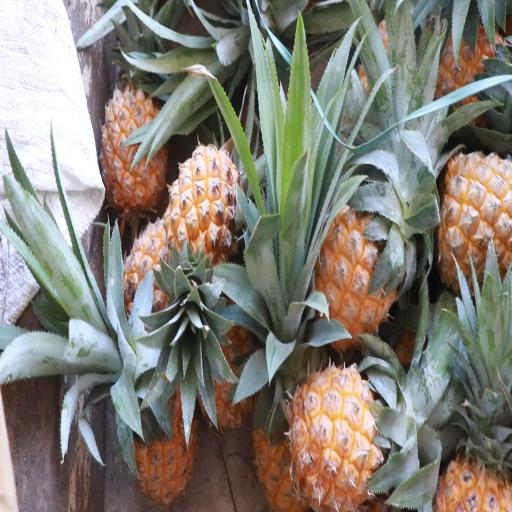Pineapple - v8 v1: (286, 341, 391, 512), (120, 324, 204, 510), (315, 194, 409, 360), (427, 144, 512, 295), (429, 359, 512, 511), (161, 144, 249, 280), (100, 72, 174, 218)
